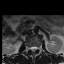CCS_normal: (32, 44, 34, 54)
LFS_normal: (37, 44, 39, 51)
LLS_normal: (34, 44, 37, 51)
RFS_normal: (28, 44, 30, 51)
RLS_normal: (30, 44, 32, 52)
